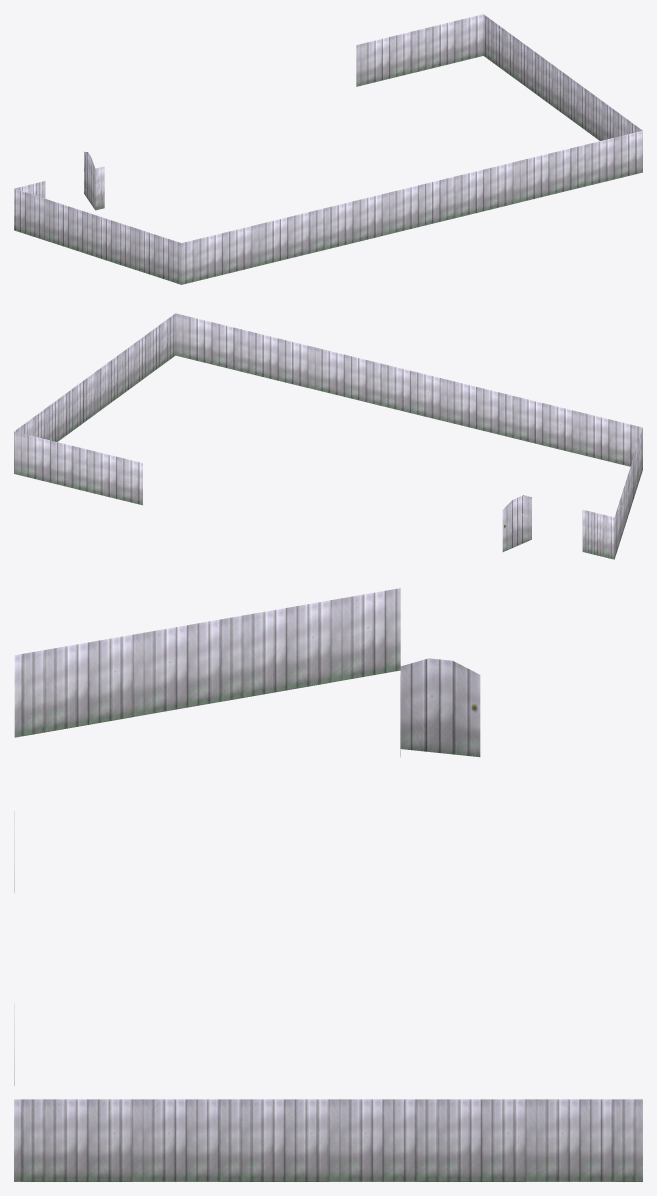
Rendered from GATE.glb.
3 renders of one model, top to bottom at view 1: azimuth 30°, elevation 25°; view 2: azimuth 150°, elevation 25°; view 3: azimuth 270°, elevation 25°, orthographic. The views are drawn at different scales.
Visible parts, largest first — view 1: GATE; view 2: GATE; view 3: GATE.
Part boxes in pixels (x1,y1,x2,y2): GATE: (14,14,642,284); GATE: (14,313,642,559); GATE: (14,588,642,1181).
Size of the model in its own units: 4064 by 347 by 2113.
2 materials, 2 textured.
